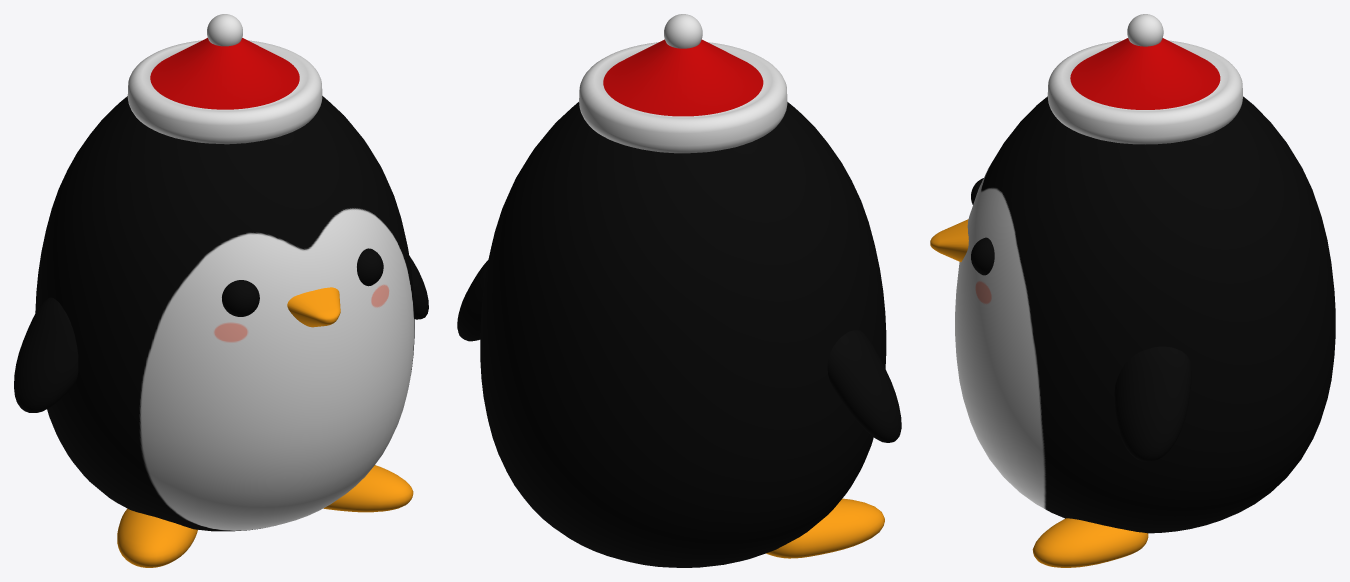
Rendered from penguin.fbx.
3 views of the same model, side by side, from view 1: azimuth 30°, elevation 25°; view 2: azimuth 150°, elevation 25°; view 3: azimuth 270°, elevation 25° (orthographic). The views are drawn at different scales.
Visible parts, largest first — view 1: Roundcube, Roundcube.003, Roundcube.001, Roundcube.002, Cube; view 2: Roundcube, Roundcube.003, Roundcube.001; view 3: Roundcube, Roundcube.003, Roundcube.001, Cube, Roundcube.002.
Part boxes in pixels (x1,y1,x2,y2): Roundcube: (35, 96, 414, 531); Roundcube.003: (127, 14, 322, 144); Roundcube.001: (14, 256, 428, 567); Roundcube.002: (222, 248, 383, 316); Cube: (287, 287, 340, 327); Roundcube: (480, 102, 886, 567); Roundcube.003: (579, 14, 787, 153); Roundcube.001: (457, 260, 901, 558); Roundcube: (955, 96, 1335, 533); Roundcube.003: (1047, 14, 1242, 144); Roundcube.001: (1032, 346, 1191, 567); Cube: (930, 219, 968, 261); Roundcube.002: (971, 178, 994, 275).
Bounding box in the file's own units: 341 × 392 × 293.
1 material, 1 textured.
